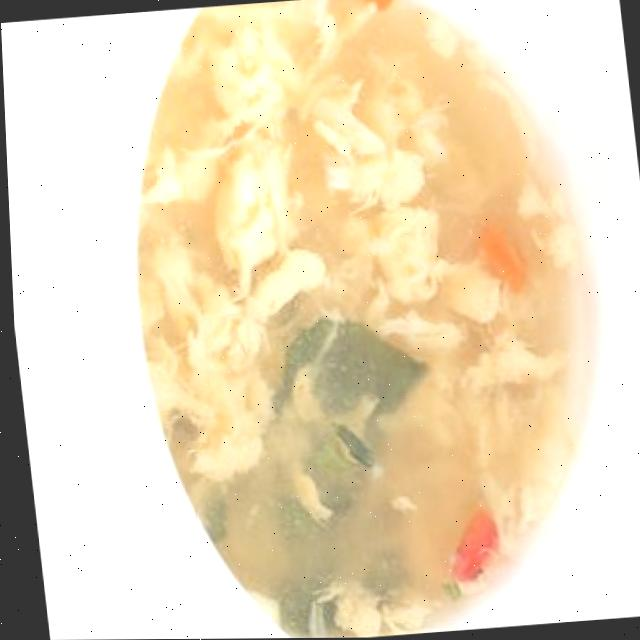汤锅炖物: (90, 0, 612, 639)
